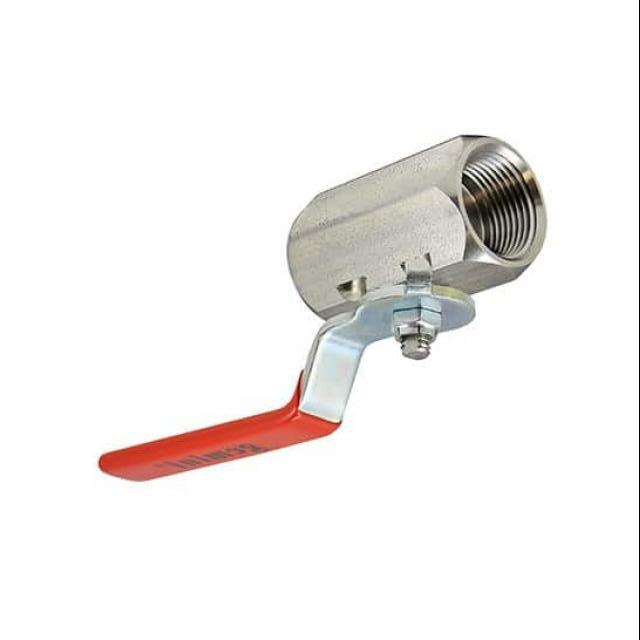opened valve: (93, 130, 551, 484)
